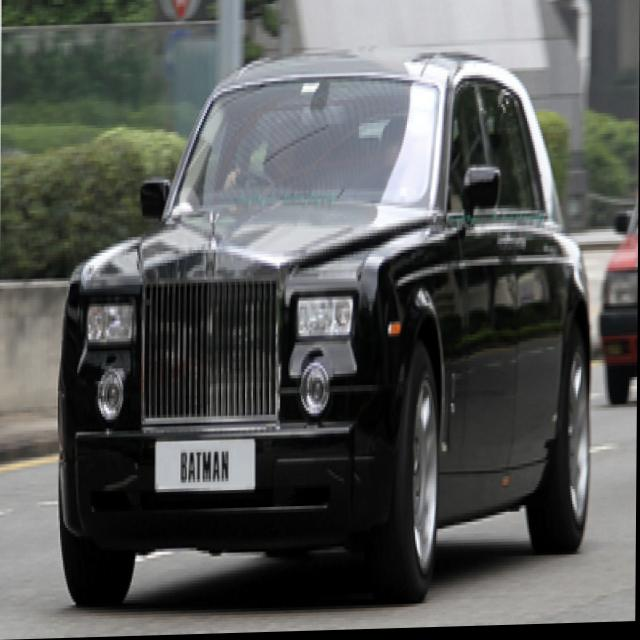licence: (154, 438, 255, 491)
